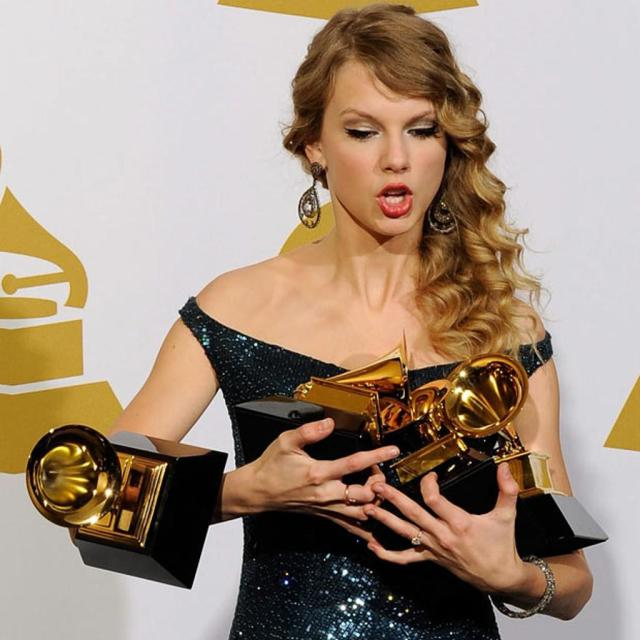Face: (311, 53, 447, 247)
